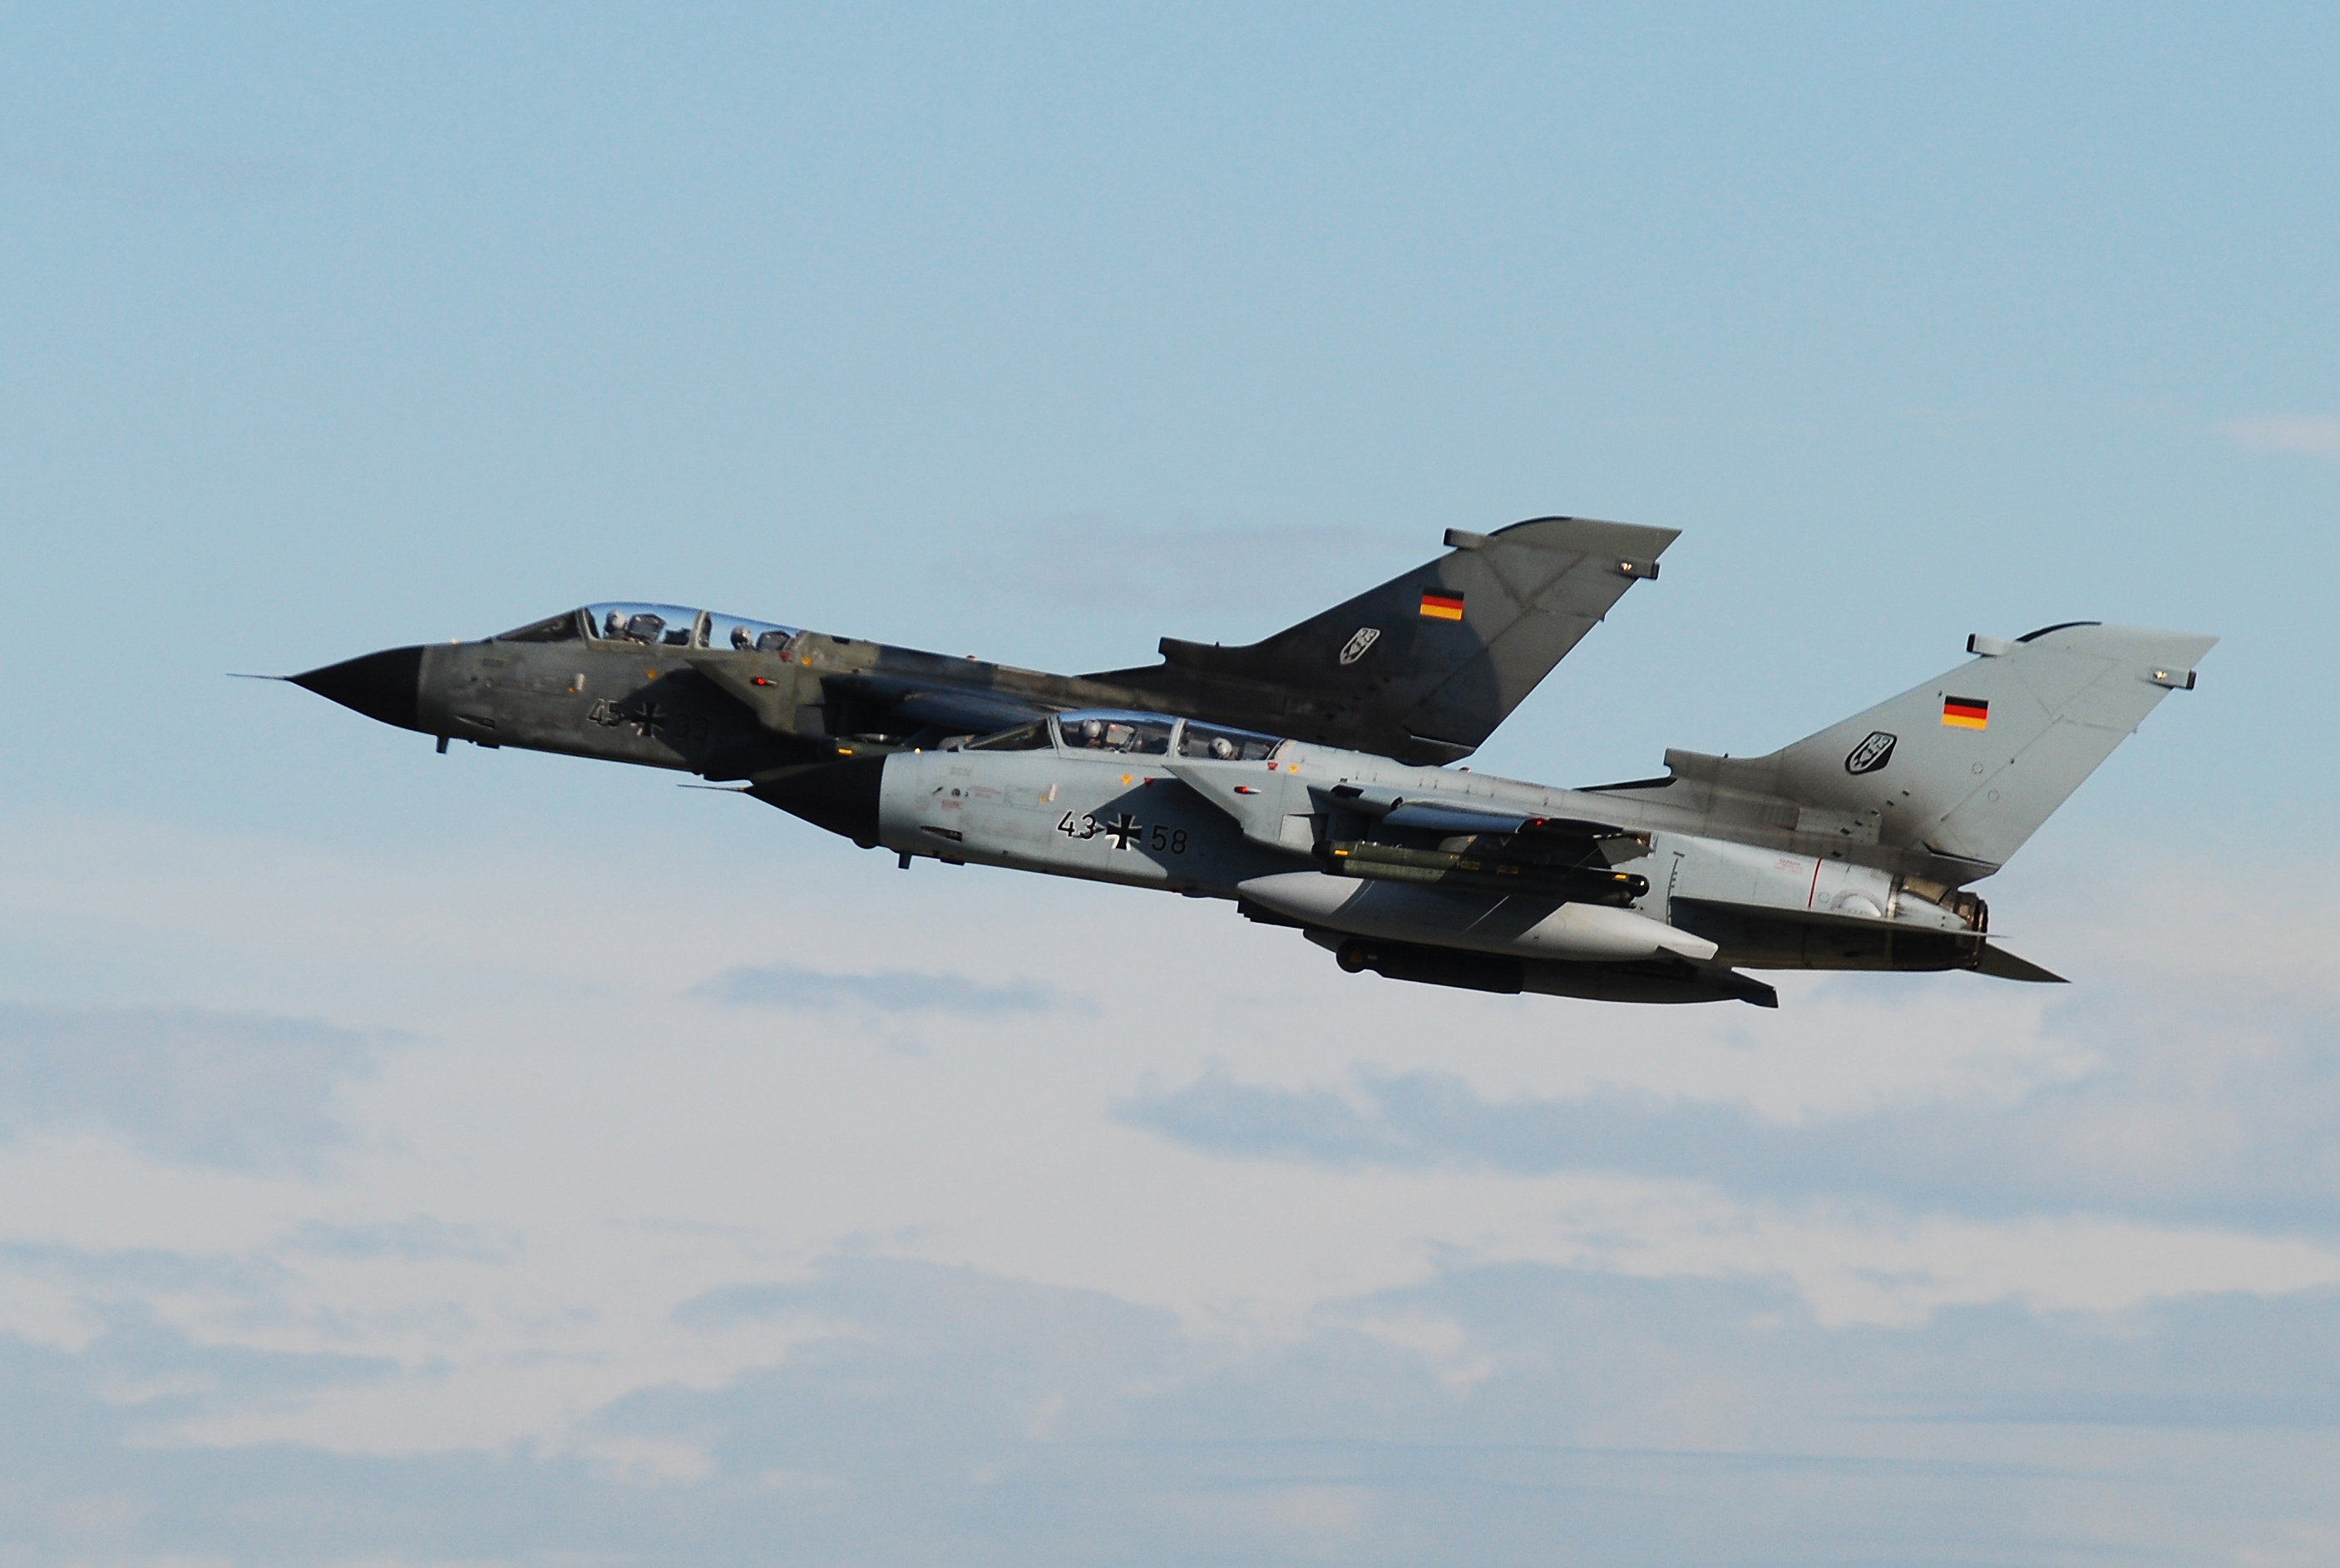Tornado: (676, 619, 2221, 1008), (224, 514, 1684, 850)
